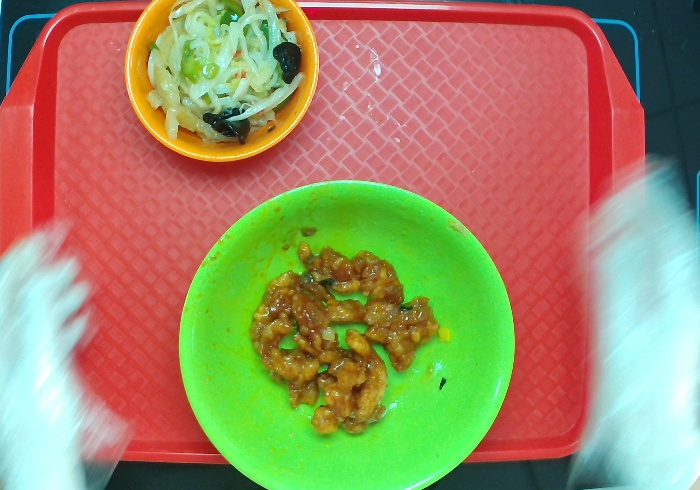YKMZ-Ju_Se_Yuan_Wan: (123, 1, 320, 164)
YKMZ-Lv_Se_Tang_Wan: (177, 178, 517, 490)
